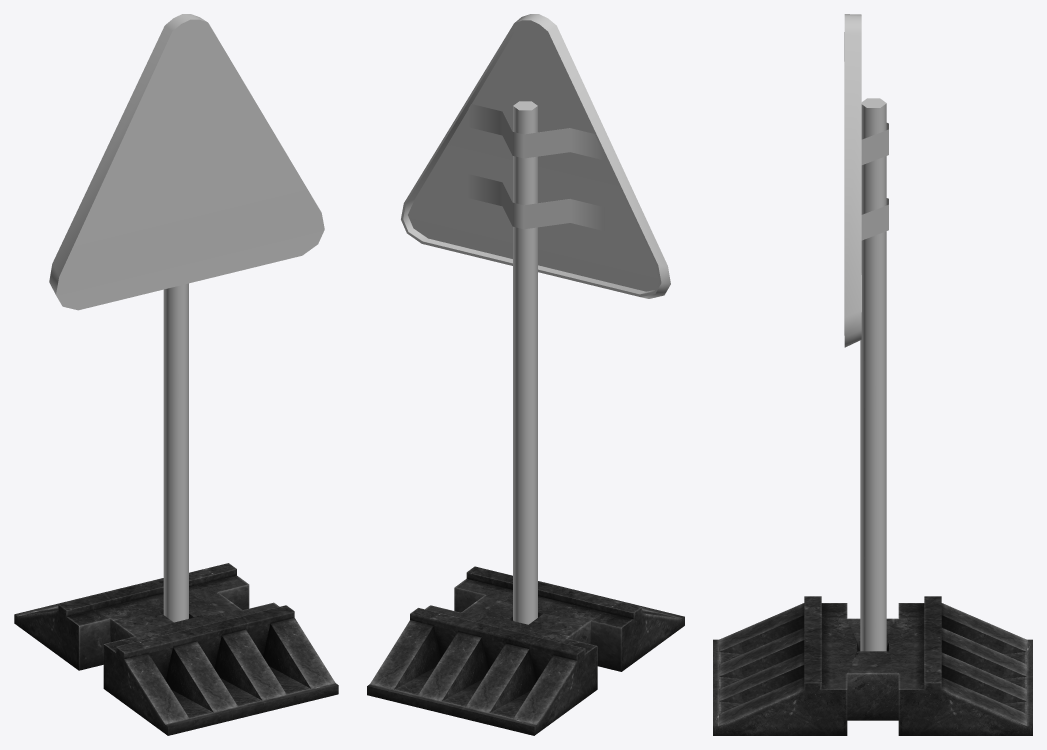
Rendered from WarningTemporary_NarrowRoadRight.fbx.
3 renders of one model, left to right at view 1: azimuth 30°, elevation 25°; view 2: azimuth 150°, elevation 25°; view 3: azimuth 270°, elevation 25°, orthographic. The views are drawn at different scales.
Parts seen in each view (by area): view 1: WarningTemporary_NarrowRoadRight_LOD0; view 2: WarningTemporary_NarrowRoadRight_LOD0; view 3: WarningTemporary_NarrowRoadRight_LOD0.
Part boxes in pixels (bbox=[...]): WarningTemporary_NarrowRoadRight_LOD0: bbox=[14, 14, 338, 735]; WarningTemporary_NarrowRoadRight_LOD0: bbox=[367, 14, 684, 735]; WarningTemporary_NarrowRoadRight_LOD0: bbox=[713, 14, 1032, 735].
Size of what is drawn, in the model's own units: 0.6941 by 1.6 by 0.6866.
